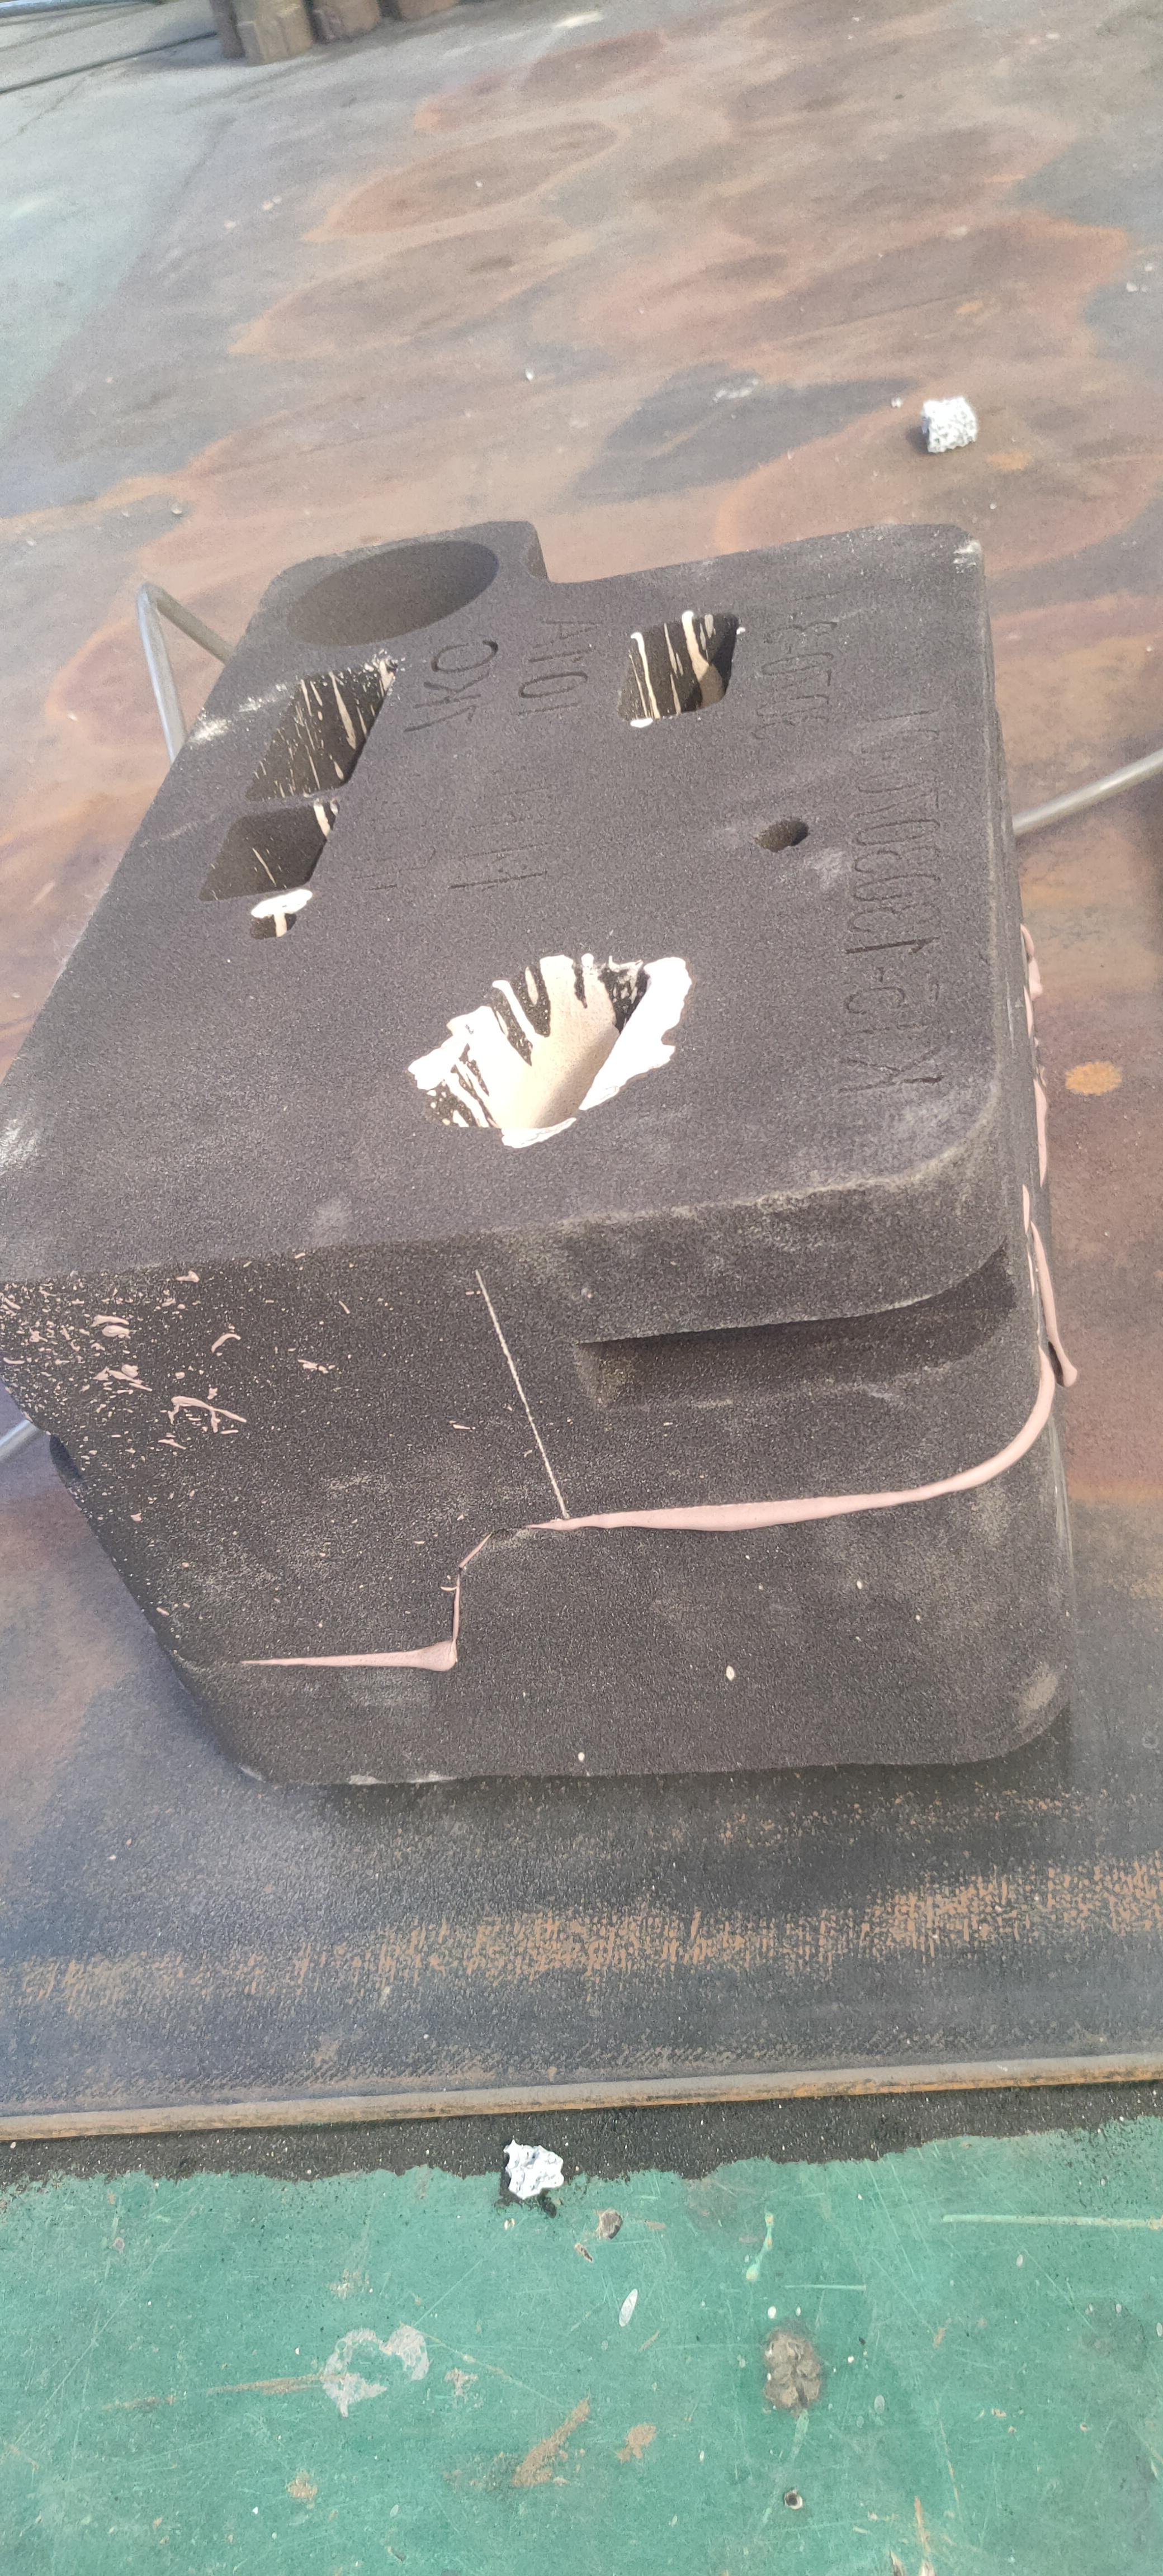pouring hole: (286, 539, 499, 647)
